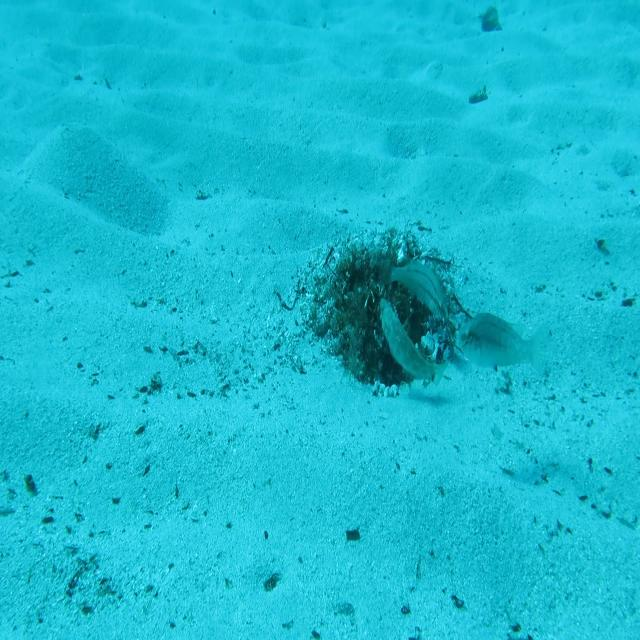DAN_CIRC: (379, 295, 452, 387), (388, 422, 396, 424)
female: (454, 305, 552, 390), (376, 250, 450, 325)
nest: (293, 213, 468, 409)
vegetation: (479, 5, 504, 33), (468, 82, 490, 108), (263, 568, 281, 594), (345, 526, 361, 542)
